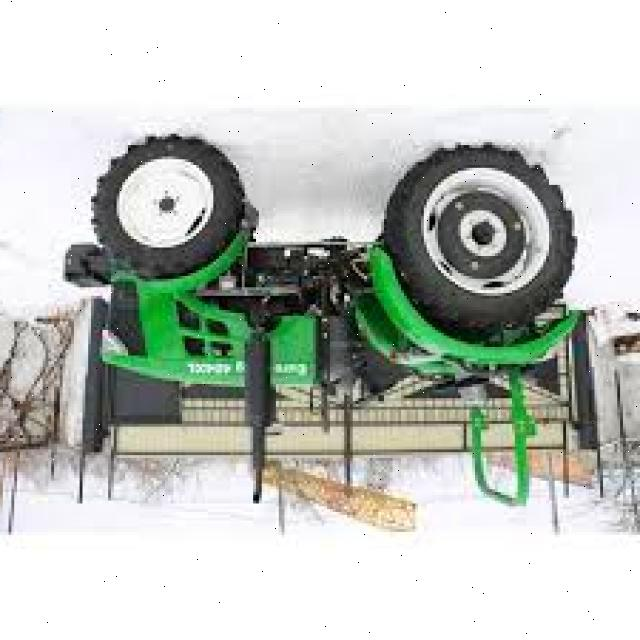Tratores - v5 YOLO V8L 2024-11-13: (90, 130, 578, 408)
